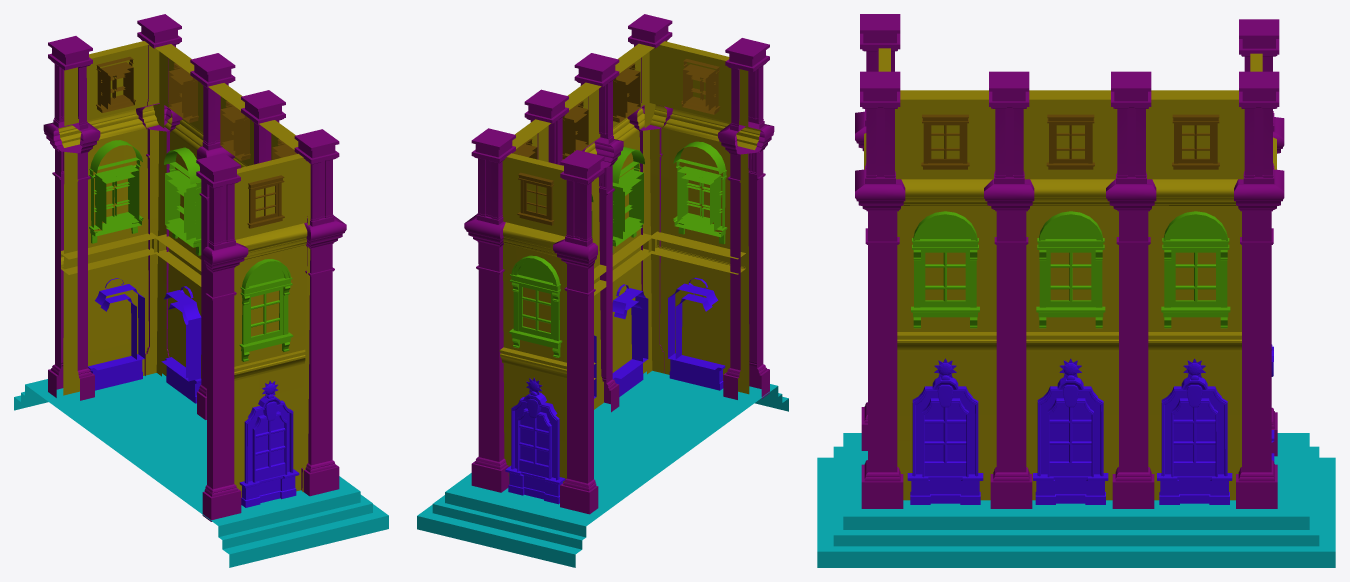
The model's file is Whitehall_Fin.fbx.
3 views of the same model, side by side, from view 1: azimuth 30°, elevation 25°; view 2: azimuth 150°, elevation 25°; view 3: azimuth 270°, elevation 25° (orthographic). The views are drawn at different scales.
Visible parts, largest first — view 1: Whitehall_Low; view 2: Whitehall_Low; view 3: Whitehall_Low.
Part boxes in pixels (<box>): Whitehall_Low: <box>14,14,388,567</box>; Whitehall_Low: <box>417,14,788,567</box>; Whitehall_Low: <box>817,14,1335,567</box>.
Size of the model in its own units: 5.36 by 12.2 by 12.43.
